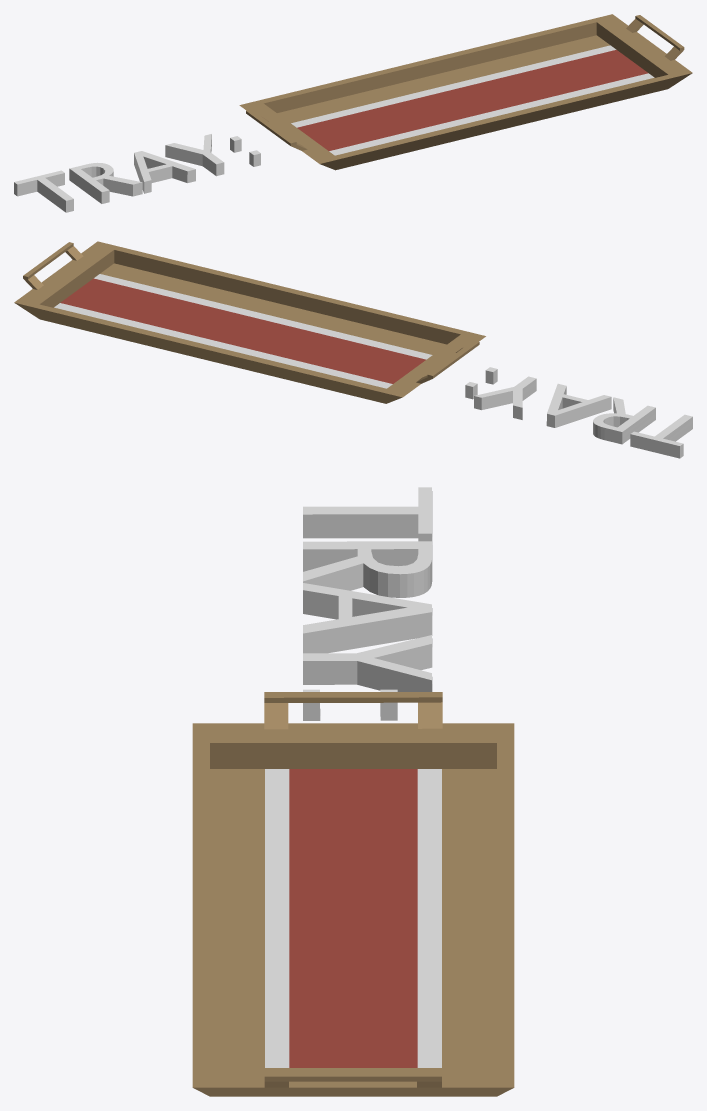
File: tray_interface.fbx
The picture shows the model from 3 angles, top to bottom: view 1: azimuth 30°, elevation 25°; view 2: azimuth 150°, elevation 25°; view 3: azimuth 270°, elevation 25°; orthographic projection. The views are drawn at different scales.
Visible parts, largest first — view 1: tray_interface; view 2: tray_interface; view 3: tray_interface.
Boxes of the visible parts, x1,y1,x2,y2 form: tray_interface: (14, 14, 692, 212); tray_interface: (14, 241, 692, 458); tray_interface: (192, 487, 514, 1096).
Size of the model in its own units: 5.06 by 0.1895 by 1.12.
